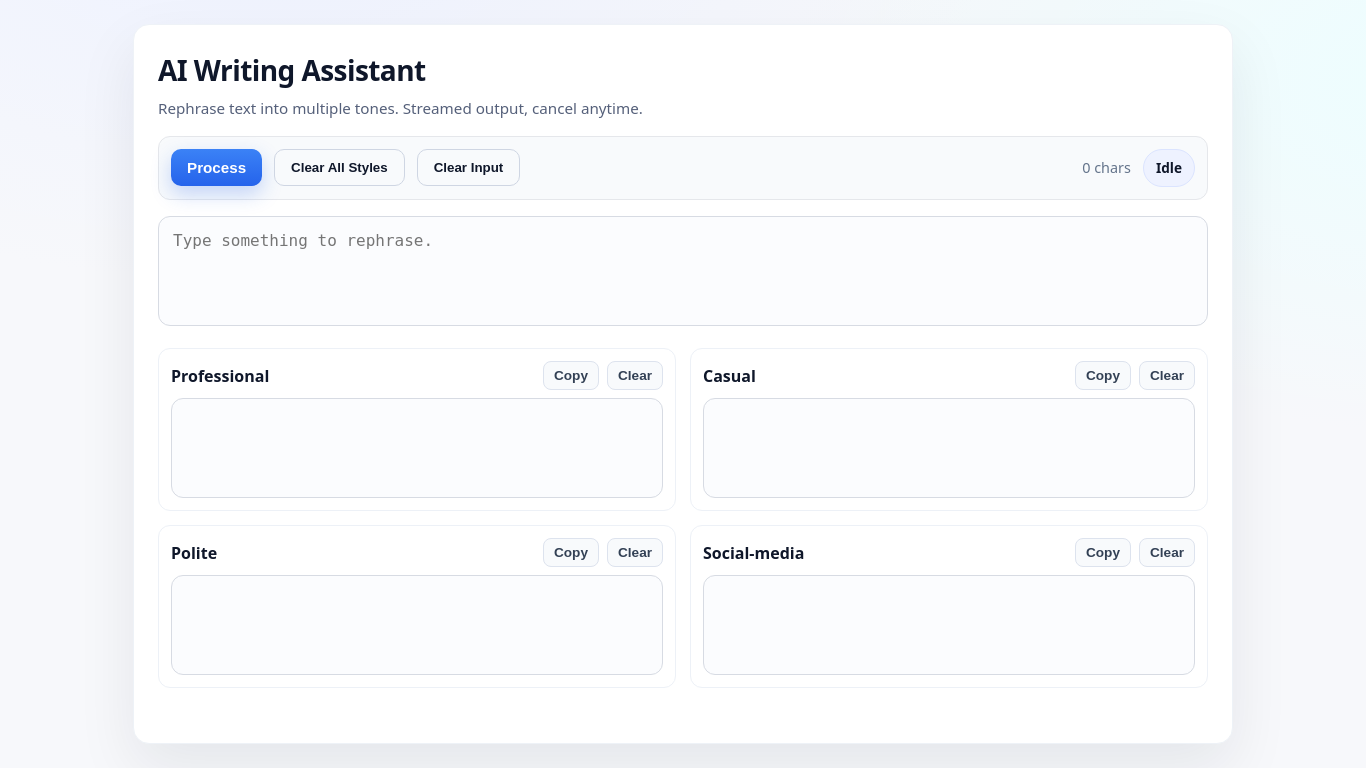
Test case: happy path: POST /process → SSE → outputs update
Type "Make me polite" into the text box with placeholder "Type something to rephrase.".
click(683, 271); type("Make me polite")  # box [158, 216, 1208, 326]
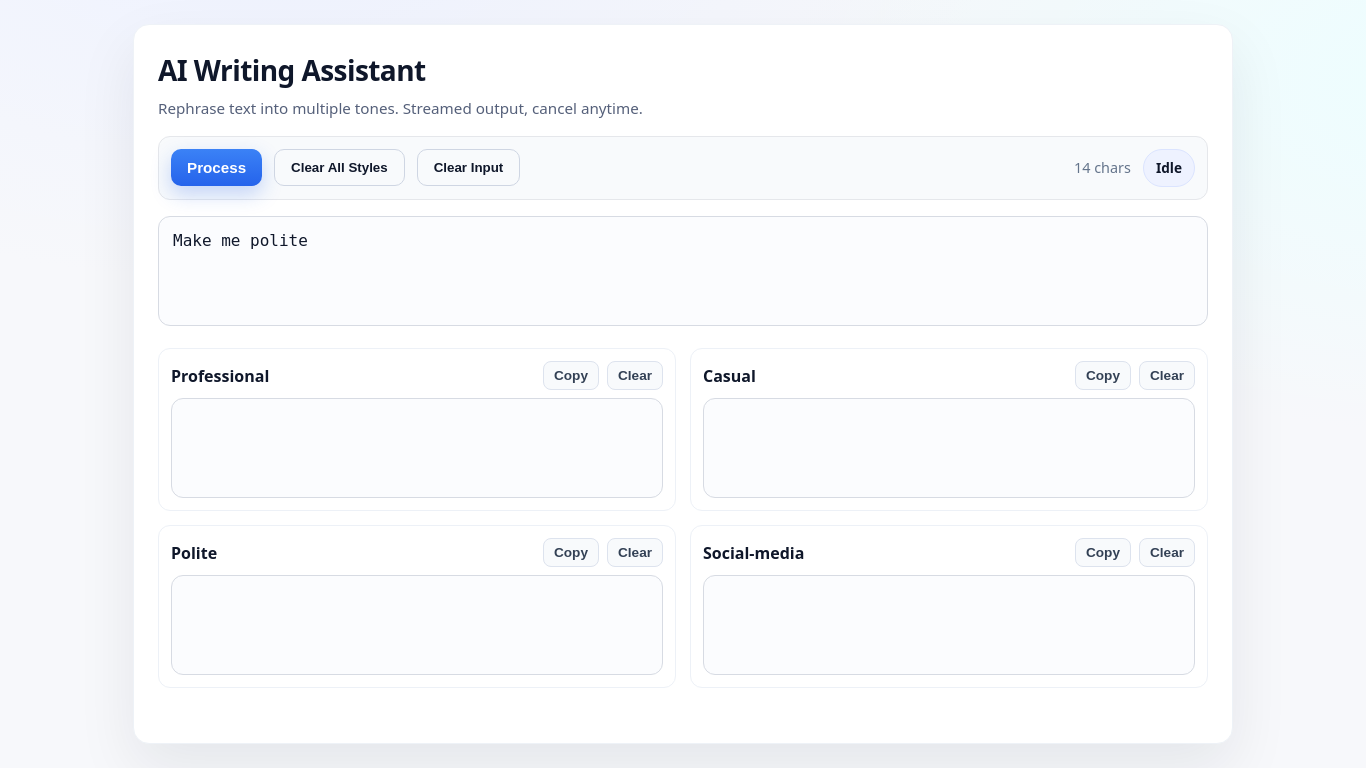
Click the button "Process".
click(217, 168)  # box [171, 150, 262, 186]
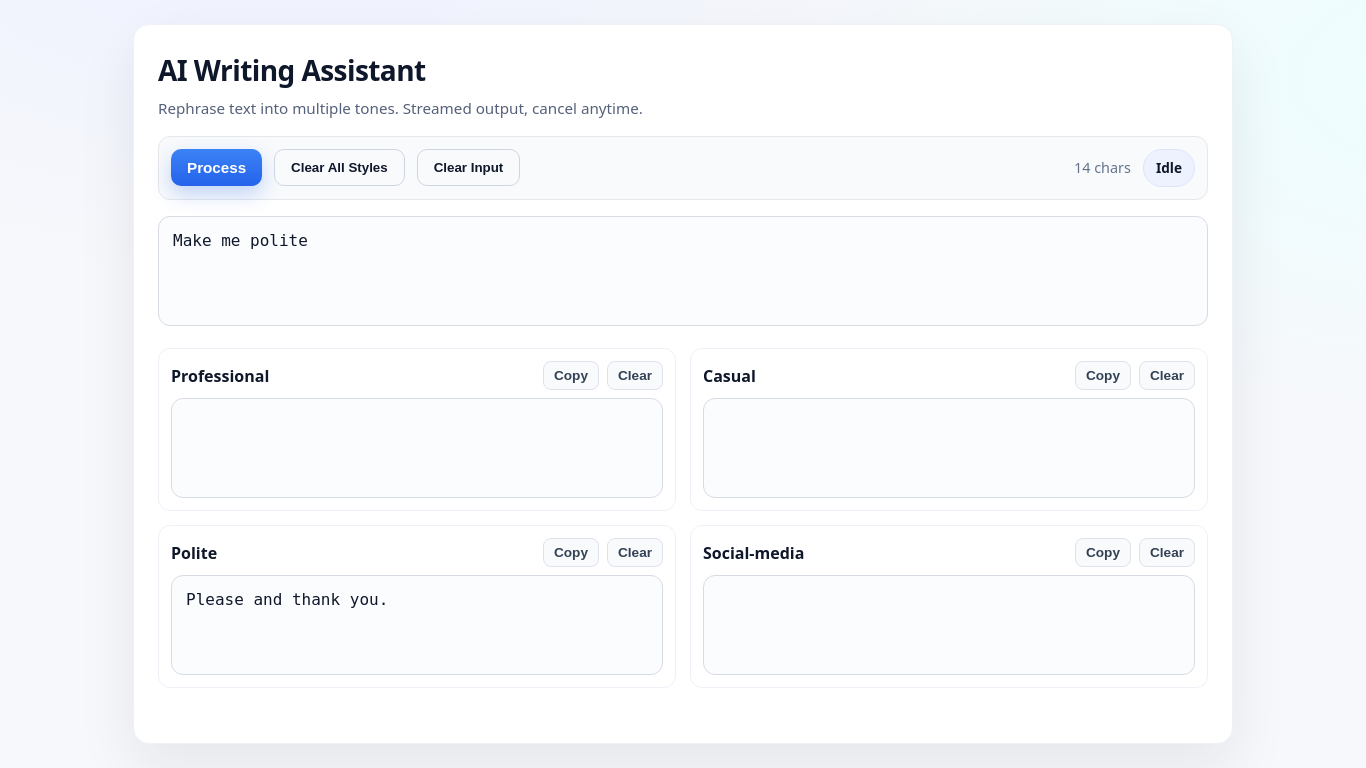
Expected: the text box named "Polite rephrased text" holds "Please and thank you.", [171, 575, 663, 675]
